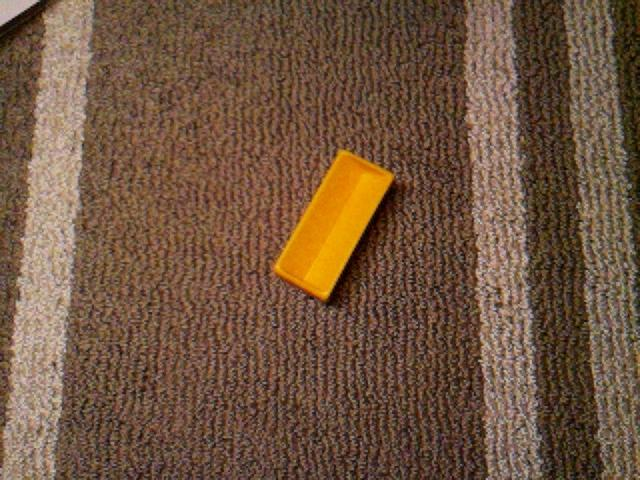yellow: (272, 148, 396, 304)
